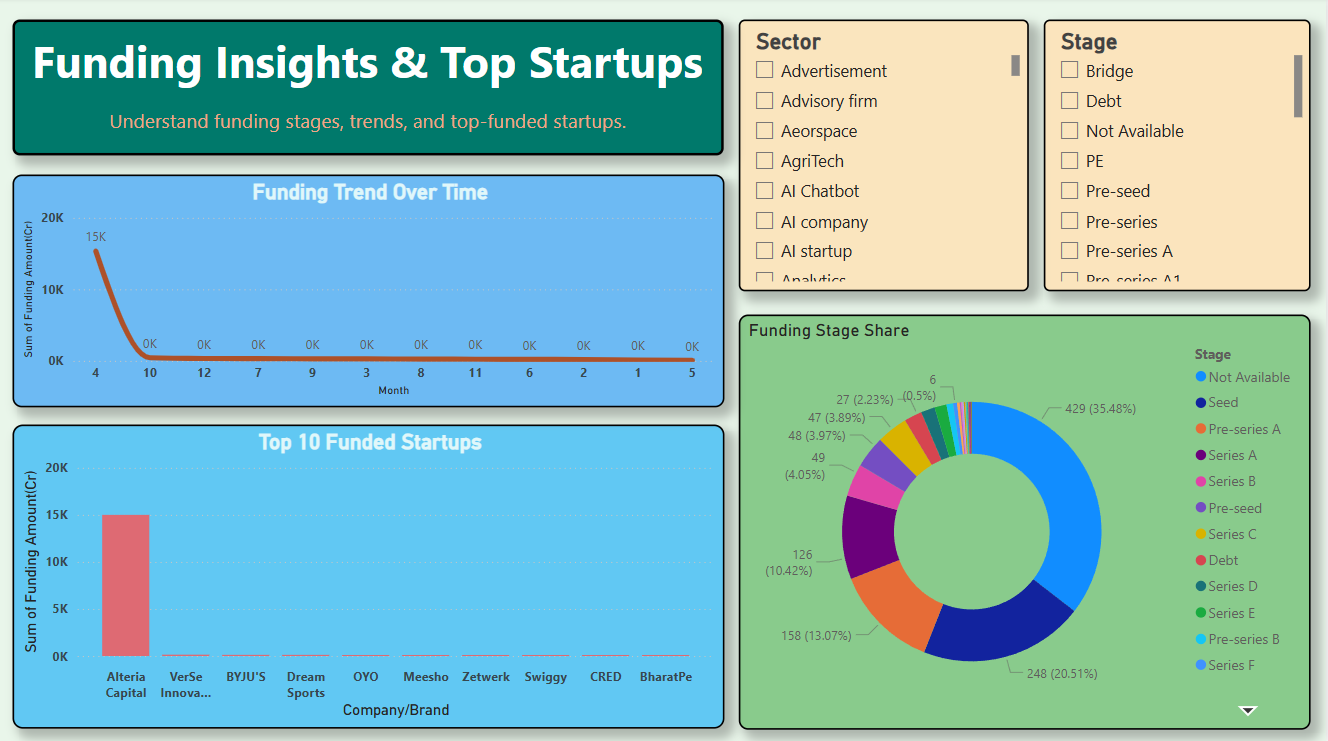

What the dashboard file says about the page in this screenshot:
{"tool":"powerbi","page":{"name":"Funding Insights","canvas":[1280,720],"ordinal":1},"visuals":[{"type":"columnChart","title":"Top 10 Funded Startups","fields":{"Category":["Indian Startup.Company/Brand"],"Y":["Sum(Indian Startup.Funding Amount(Cr))"]},"box":[12.3,413,687.5,293.7],"z":0},{"type":"donutChart","title":"Funding Stage Share","fields":{"Y":["CountNonNull(Indian Startup.Company/Brand)"],"Category":["Indian Startup.Stage"]},"box":[713.6,306,551.6,400.7],"z":1000},{"type":"lineChart","title":"Funding Trend Over Time","fields":{"Y":["Sum(Indian Startup.Funding Amount(Cr))"],"Category":["Indian Startup.Month"]},"box":[12.3,171.5,687.5,225],"z":2000},{"type":"slicer","fields":{"Values":["Indian Startup.Sector"]},"box":[713.6,22,279.9,262.1],"z":3000},{"type":"slicer","fields":{"Values":["Indian Startup.Stage"]},"box":[1007.2,22,258,262.1],"z":4000},{"type":"textbox","box":[12.1,21.7,686.5,131.5],"z":5000}]}

Visuals, with their boxes in screenshot pixels (x1, y1, x2, y2), scaled from the page's 1280x720 canvas onto the 1328x741 screenshot:
"Top 10 Funded Startups" columnChart: crop(13, 425, 726, 727)
"Funding Stage Share" donutChart: crop(740, 315, 1313, 727)
"Funding Trend Over Time" lineChart: crop(13, 177, 726, 408)
slicer - Indian Startup.Sector: crop(740, 23, 1031, 292)
slicer - Indian Startup.Stage: crop(1045, 23, 1313, 292)
textbox: crop(13, 22, 725, 158)
